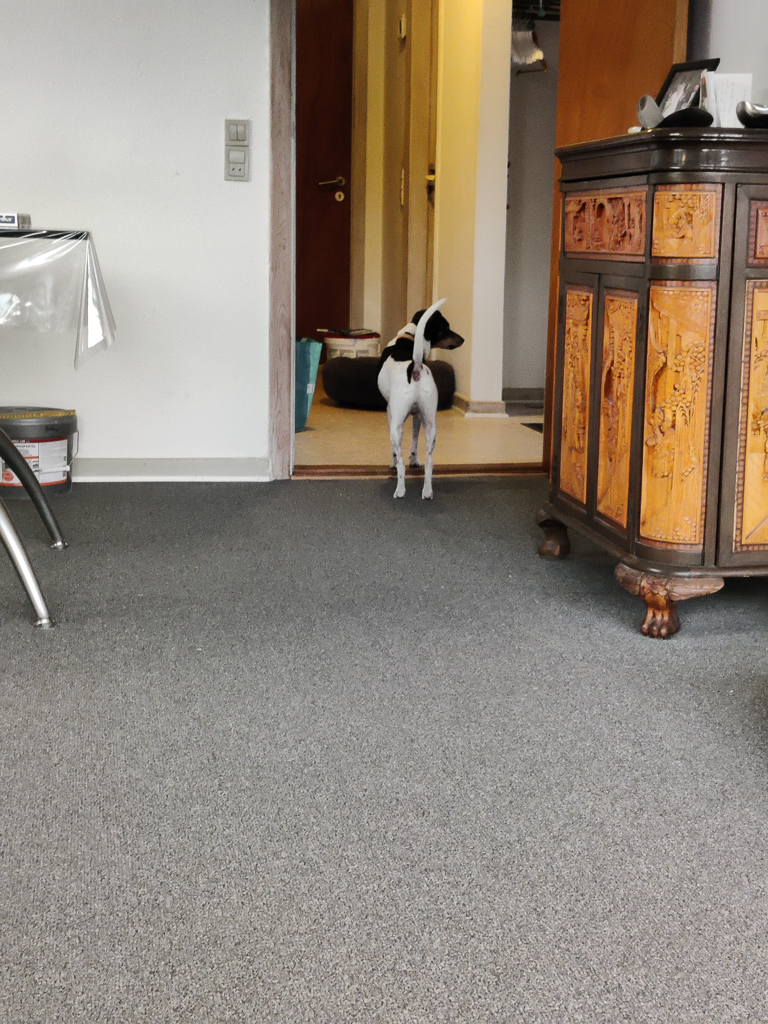Dog: (362, 296, 485, 520)
